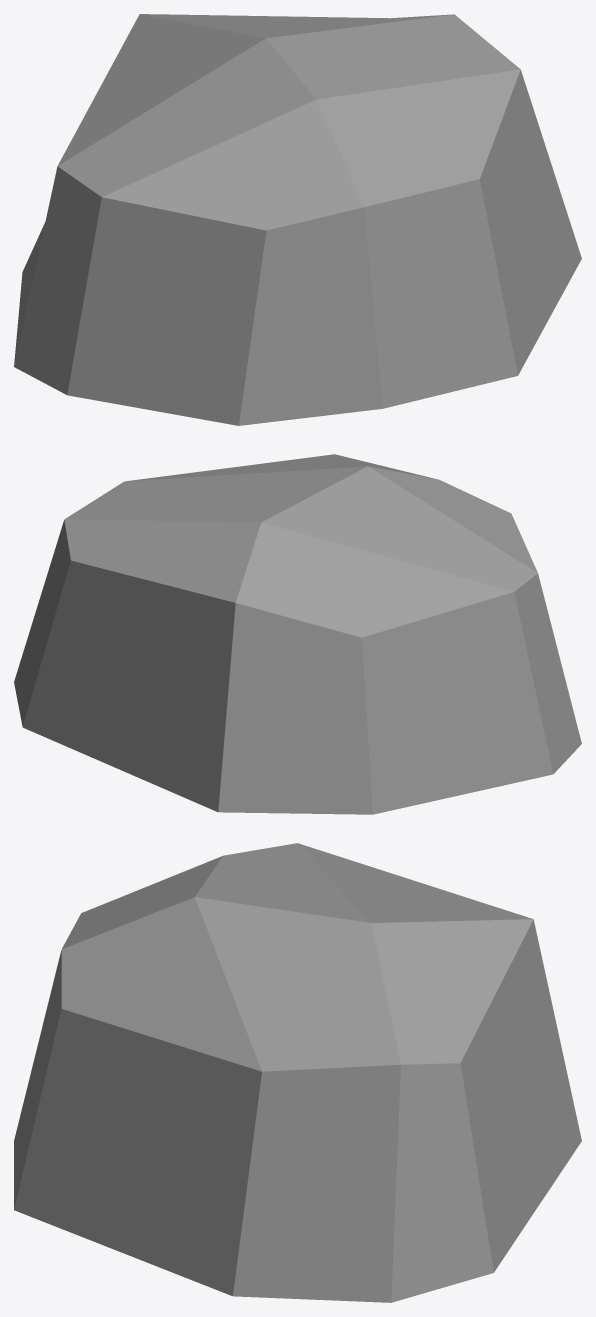
The model's file is Rock_2.fbx.
3 renders of one model, top to bottom at view 1: azimuth 30°, elevation 25°; view 2: azimuth 150°, elevation 25°; view 3: azimuth 270°, elevation 25°, orthographic. The views are drawn at different scales.
Visible parts, largest first — view 1: Rock_2; view 2: Rock_2; view 3: Rock_2.
Boxes of the visible parts, <box> form: Rock_2: <box>14,14,581,425</box>; Rock_2: <box>14,454,581,814</box>; Rock_2: <box>14,843,581,1302</box>.
Size of the model in its own units: 225 by 94.39 by 191.
1 material, 1 textured.
